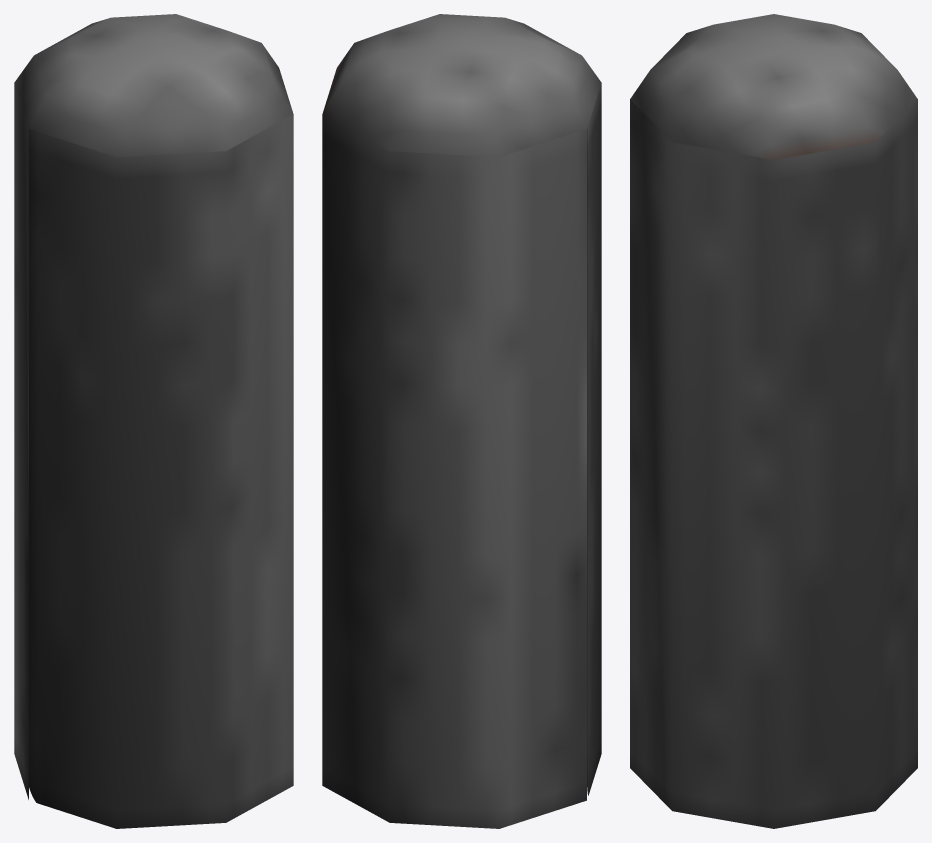
Rendered from fencepost_lightwood_0420x11.obj.
3 views of the same model, side by side, from view 1: azimuth 30°, elevation 25°; view 2: azimuth 150°, elevation 25°; view 3: azimuth 270°, elevation 25° (orthographic).
Visible parts, largest first — view 1: fencepost_lightwood.001; view 2: fencepost_lightwood.001; view 3: fencepost_lightwood.001.
Boxes of the visible parts, box(x1,y1,x2,y2) form: fencepost_lightwood.001: box(14, 14, 293, 828); fencepost_lightwood.001: box(322, 14, 601, 828); fencepost_lightwood.001: box(630, 14, 917, 828).
Bounding box in the file's own units: 0.7599 × 2.13 × 0.7599.
